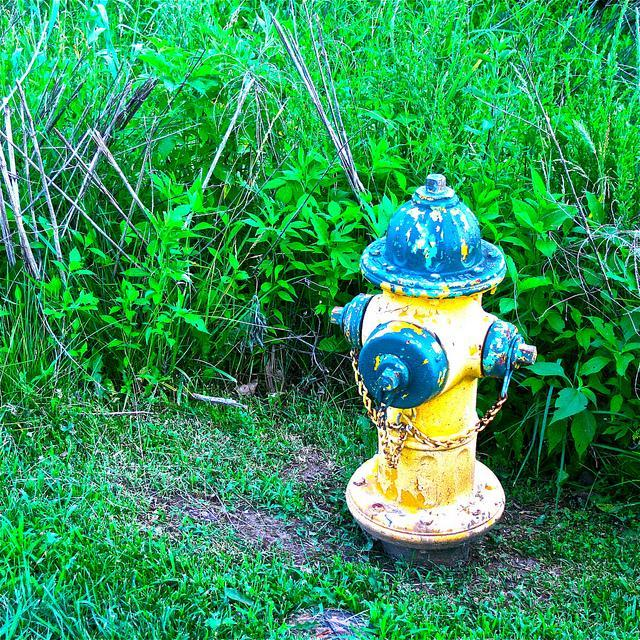fire_hydrant: (326, 169, 532, 544)
